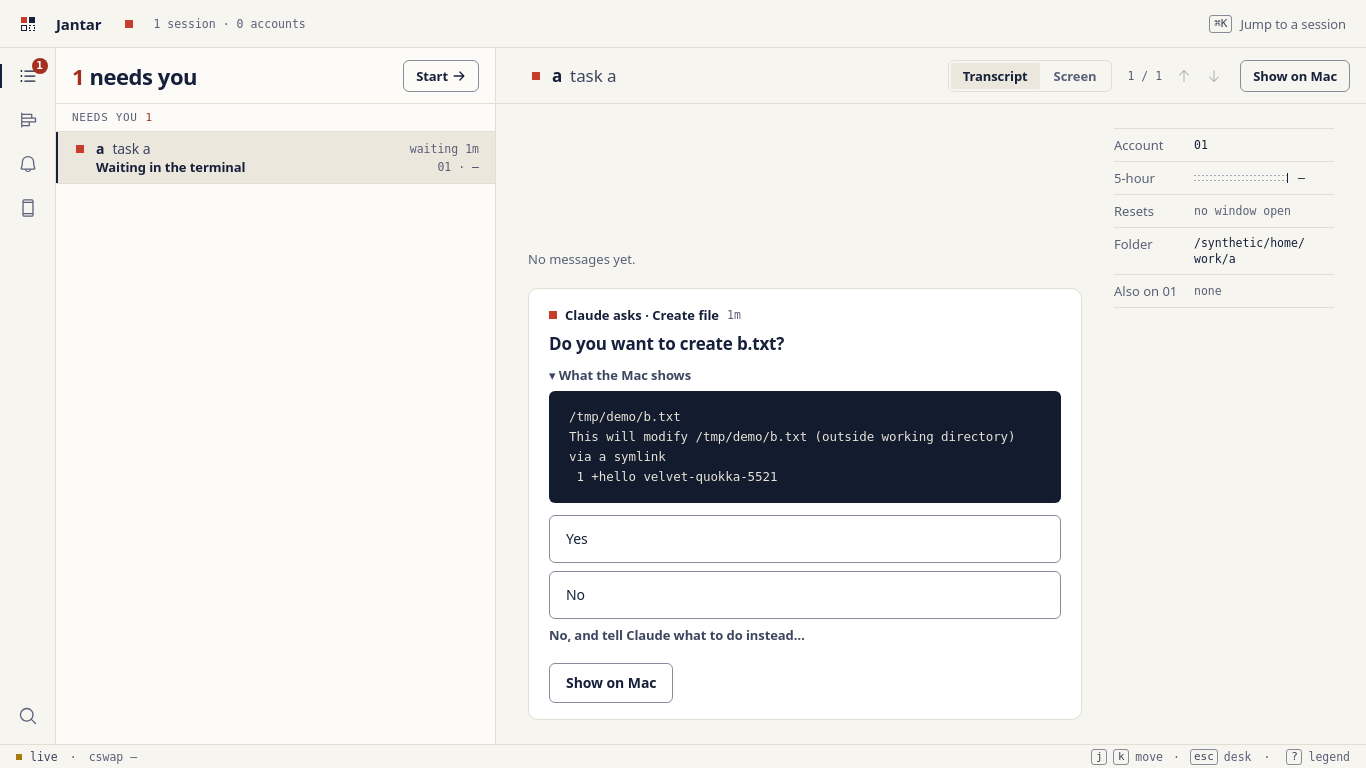
Test: the one screen poll (spec 2.1) › the Screen tab's text reads 80 lines, and the dock reads the same result
This screenshot has width=1366, height=768.
Expected: the heading "Claude asks · Create file" is shown, [565,306,719,324]
Click the tab "Screen" at [1075, 76], box [1042,62,1108,88]
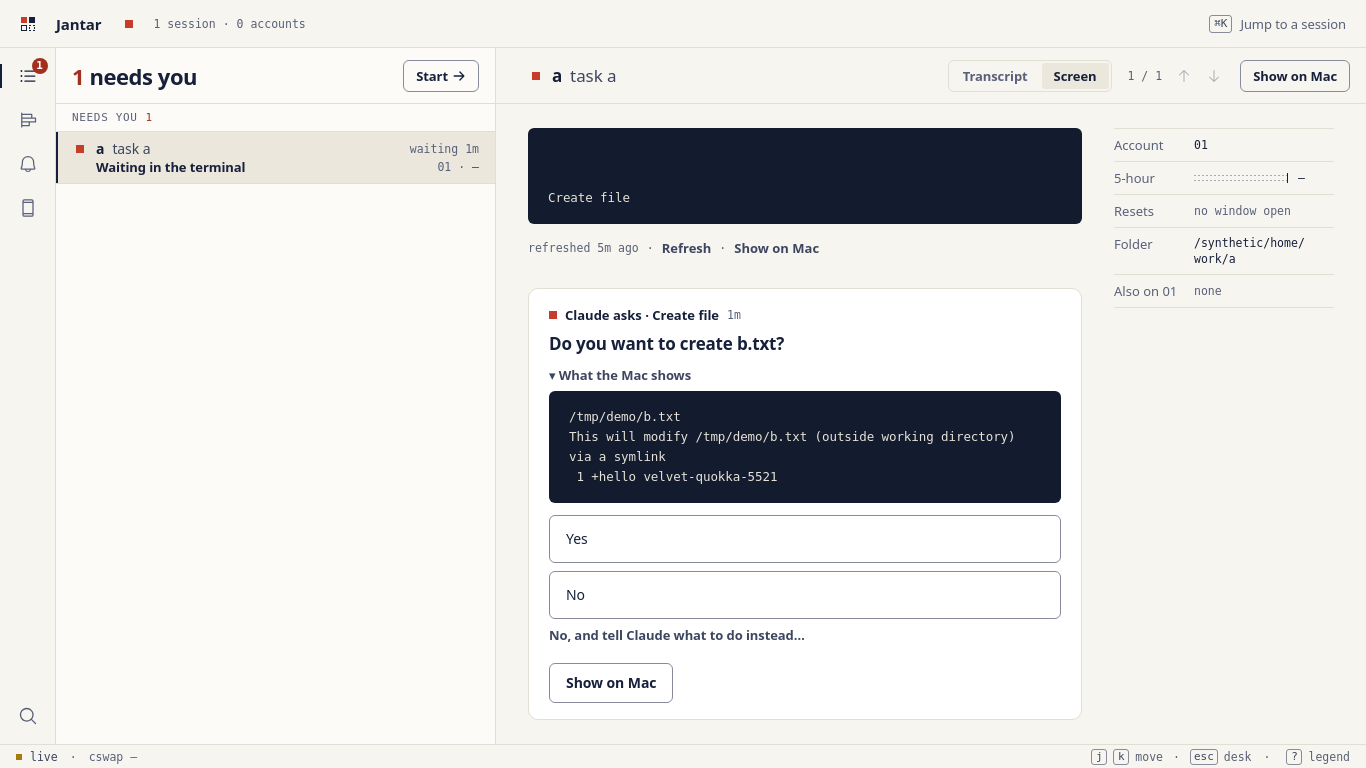
Expected: the heading "Claude asks · Create file" is shown, [565,306,719,324]
Result: the button with aria-label "Terminal text" reads "Create file" at [548,190,630,205]
